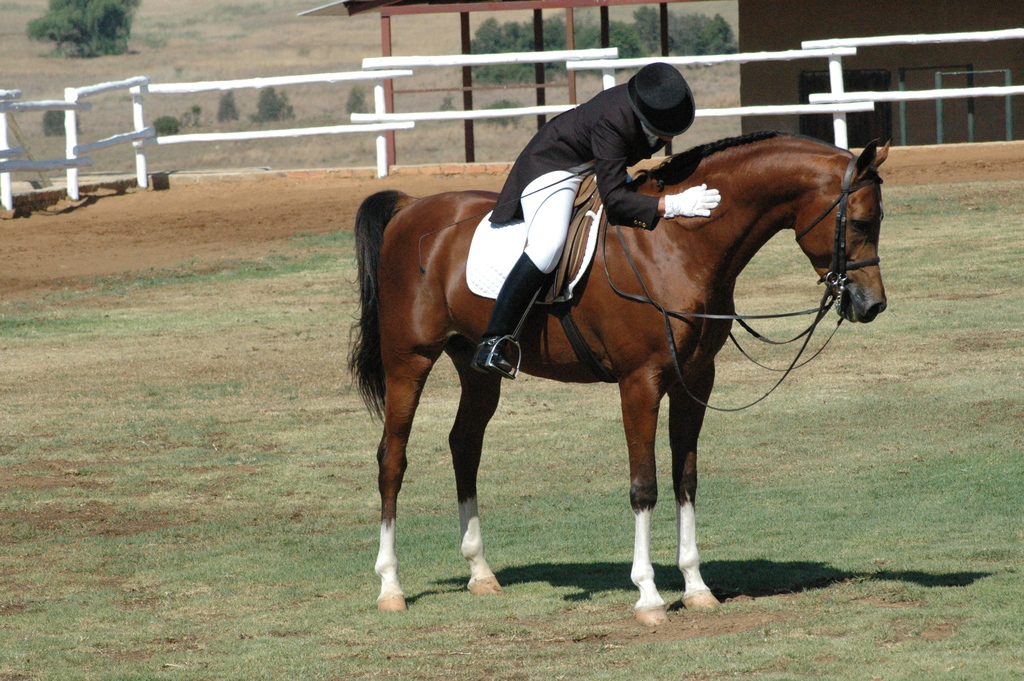horse: (343, 128, 890, 627)
